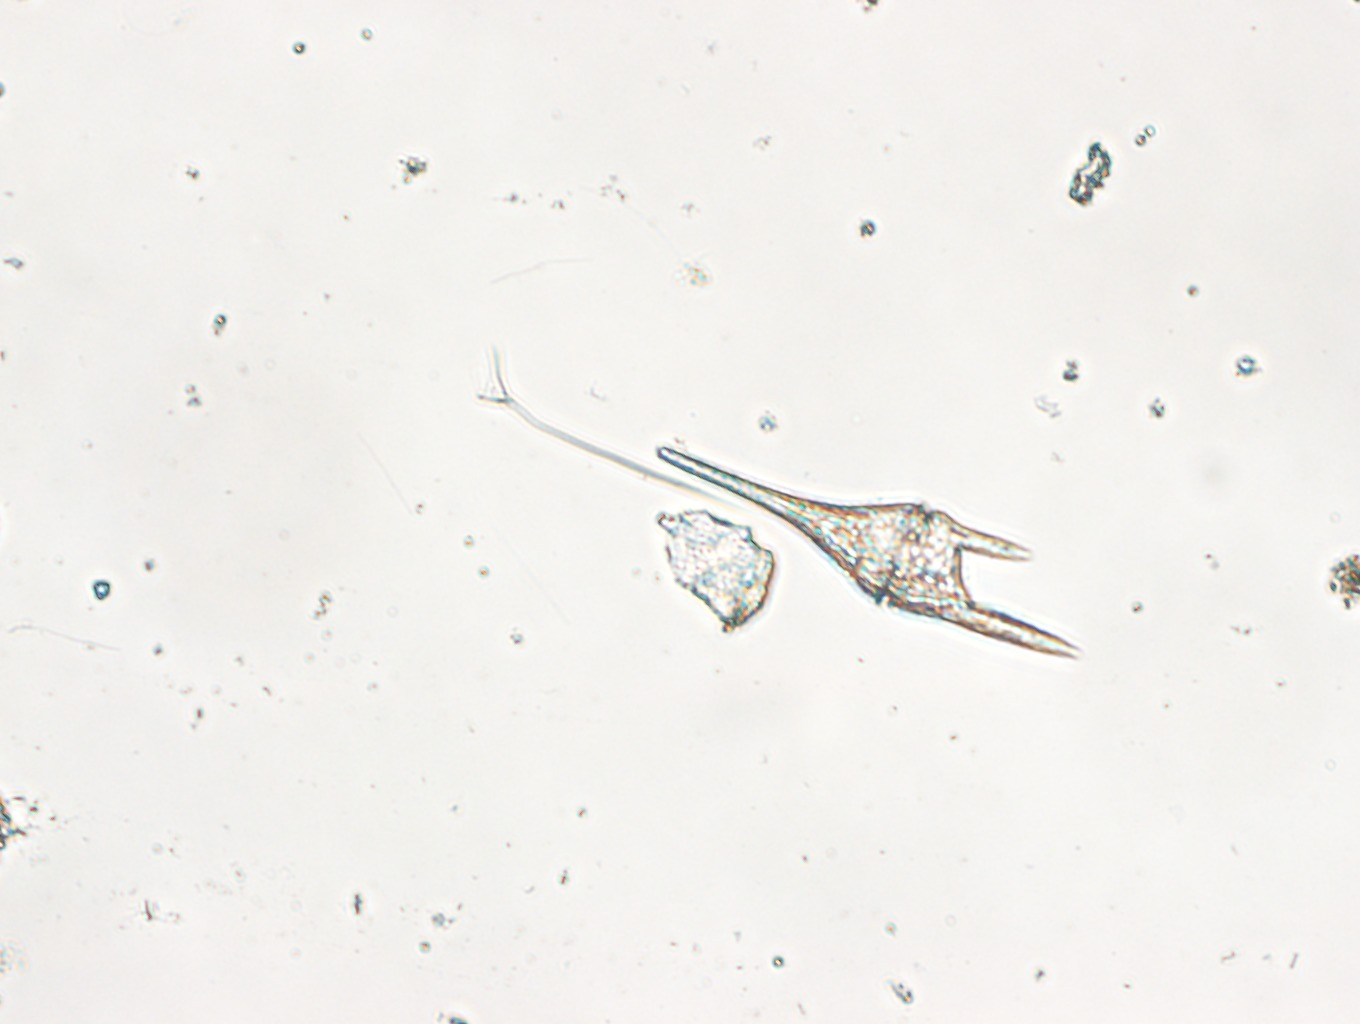ceratium furca: (653, 436, 1086, 664)
